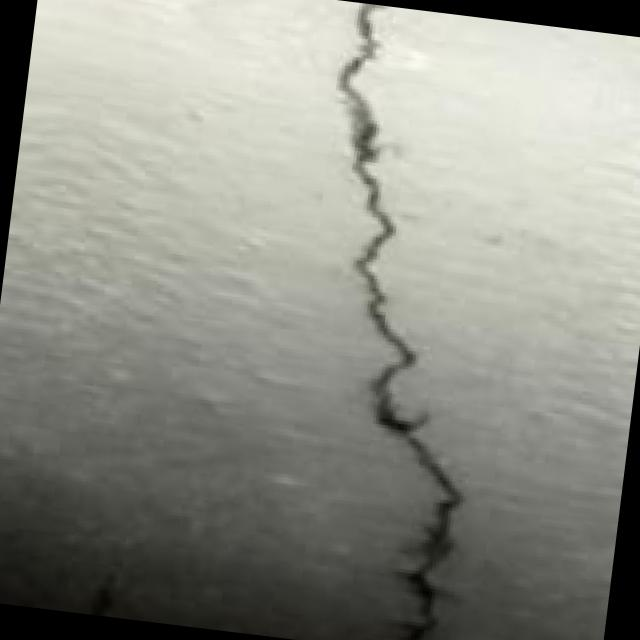crack: (217, 0, 640, 628)
